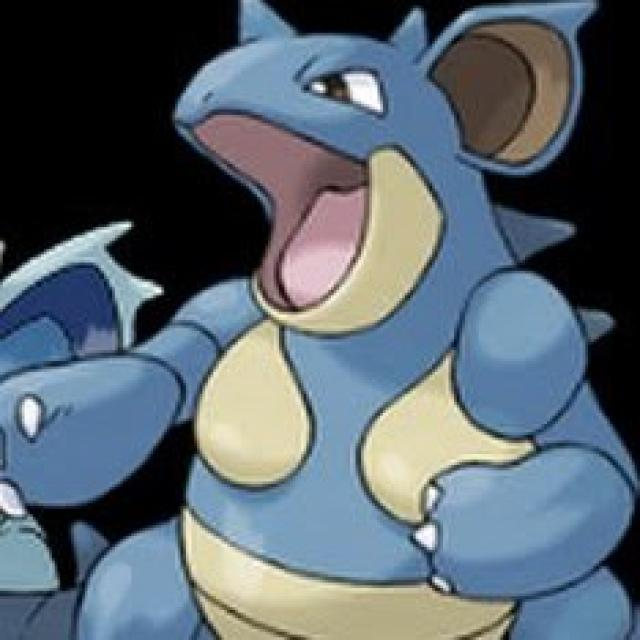Nidoqueen: (152, 7, 640, 635)
